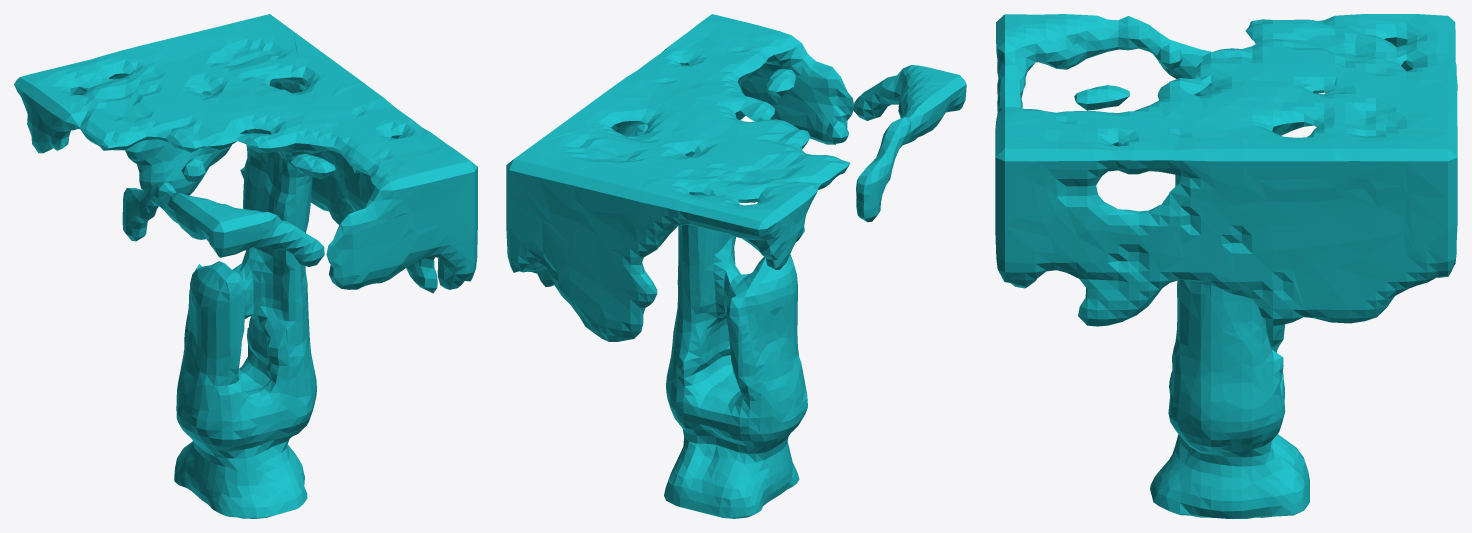
The picture shows the model from 3 angles, left to right: view 1: azimuth 30°, elevation 25°; view 2: azimuth 150°, elevation 25°; view 3: azimuth 270°, elevation 25°; orthographic projection. The views are drawn at different scales.
Visible parts, largest first — view 1: Liquid_Domain; view 2: Liquid_Domain; view 3: Liquid_Domain.
Boxes of the visible parts, <box> form: Liquid_Domain: <box>14,14,477,518</box>; Liquid_Domain: <box>506,14,966,518</box>; Liquid_Domain: <box>995,14,1457,518</box>.
Bounding box in the file's own units: 78.99 × 108 × 108.
